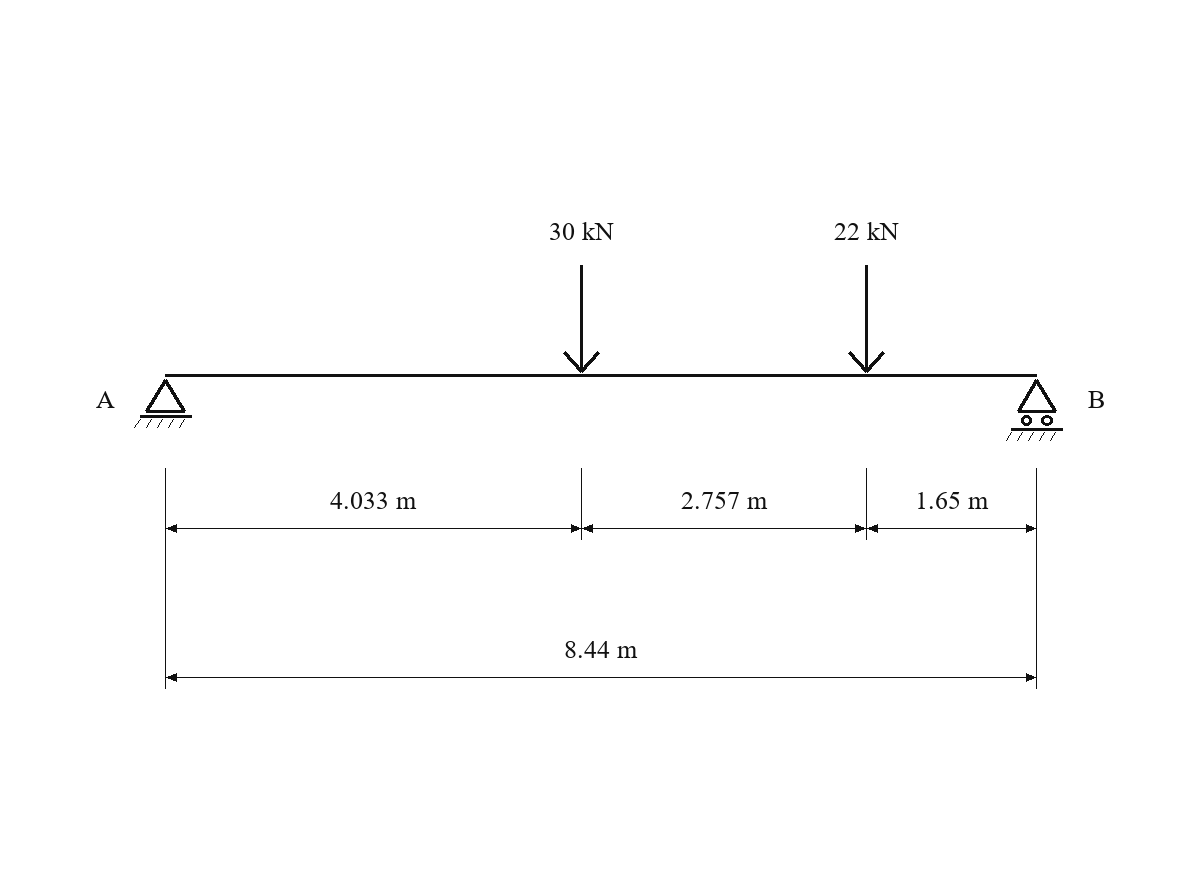pin_support: (134, 379, 192, 428)
point_load: (563, 265, 600, 373), (848, 265, 885, 373)
roller_support: (1006, 379, 1063, 441)
